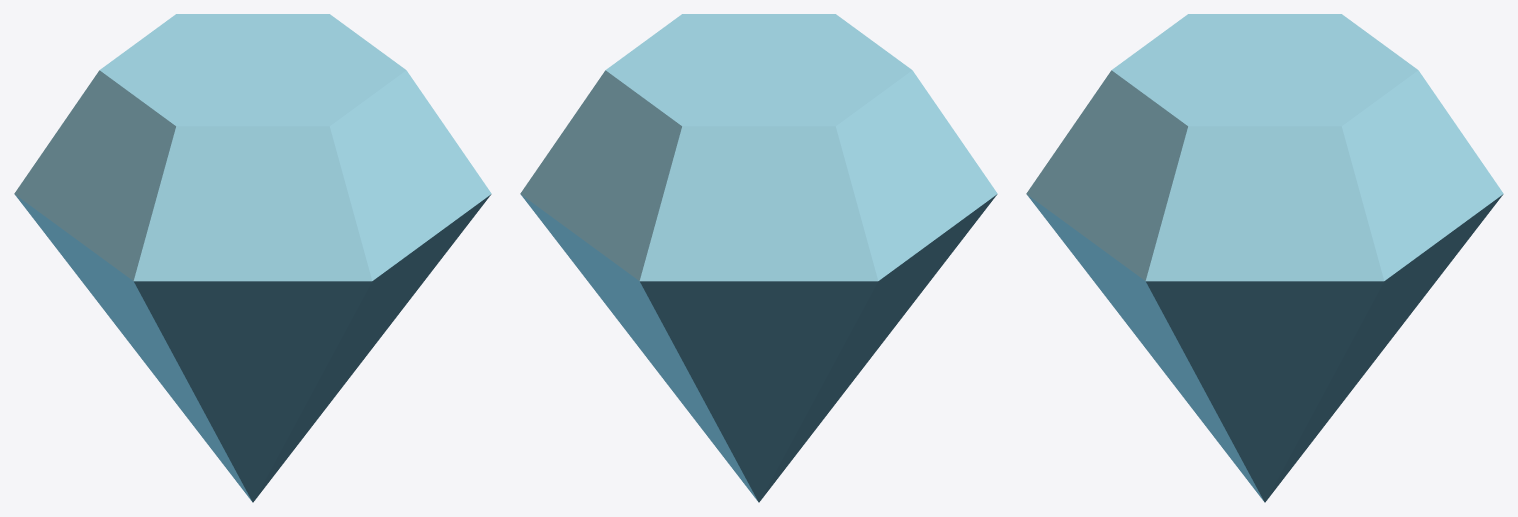
Rendered from PR_Drink_Elmas.fbx.
3 views of the same model, side by side, from view 1: azimuth 30°, elevation 25°; view 2: azimuth 150°, elevation 25°; view 3: azimuth 270°, elevation 25° (orthographic).
Visible parts, largest first — view 1: PR_Drink_Elmas; view 2: PR_Drink_Elmas; view 3: PR_Drink_Elmas.
Boxes of the visible parts, bbox=[...] form: PR_Drink_Elmas: bbox=[14, 14, 491, 502]; PR_Drink_Elmas: bbox=[520, 14, 997, 502]; PR_Drink_Elmas: bbox=[1026, 14, 1503, 502].
Bounding box in the file's own units: 0.1212 × 0.14 × 0.14.
